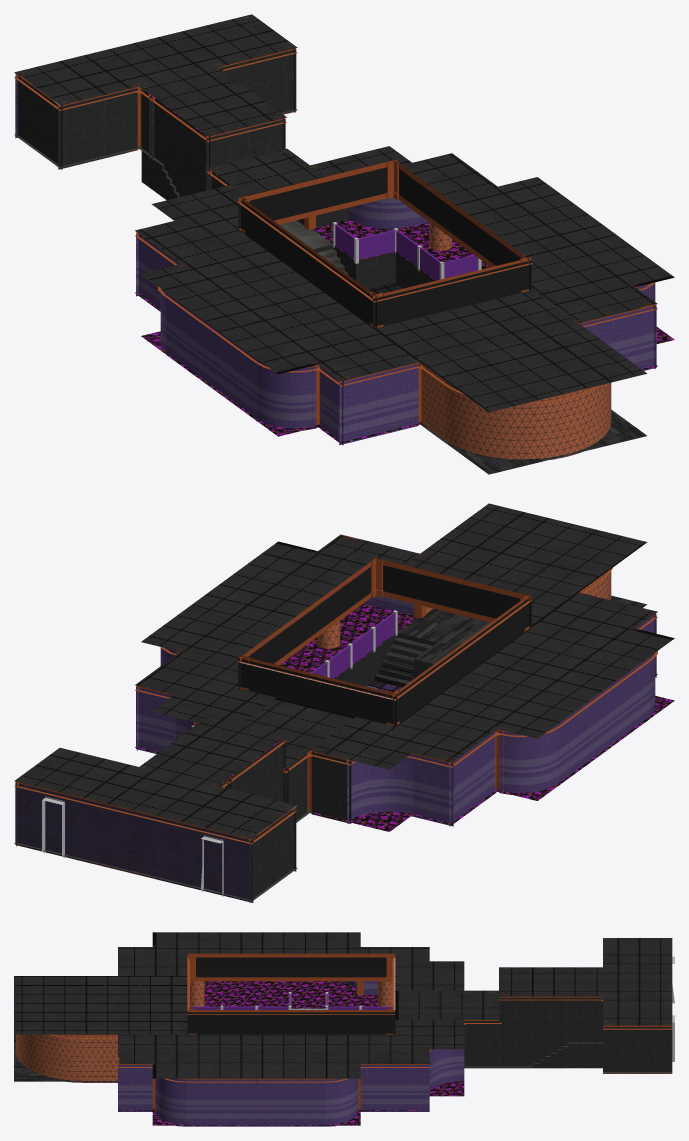
The model's file is nightclub.fbx.
3 renders of one model, top to bottom at view 1: azimuth 30°, elevation 25°; view 2: azimuth 150°, elevation 25°; view 3: azimuth 270°, elevation 25°, orthographic. The views are drawn at different scales.
Visible parts, largest first — view 1: LOD0_nightclub; view 2: LOD0_nightclub; view 3: LOD0_nightclub.
Boxes of the visible parts, x1,y1,x2,y2 form: LOD0_nightclub: [14, 14, 674, 474]; LOD0_nightclub: [14, 503, 674, 902]; LOD0_nightclub: [14, 932, 674, 1126].
Bounding box in the file's own units: 10000 × 3133 × 19075.
